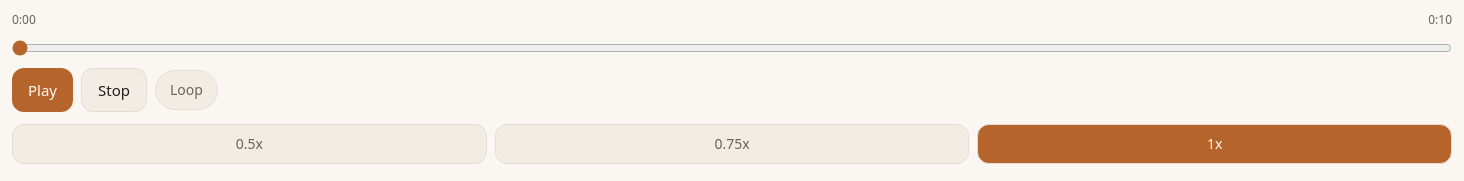
Test: AudioSegmentPlayer › toggles the loop switch
Click the switch named "Loop this section" at (186, 90), box left=155, top=70, right=218, bottom=110
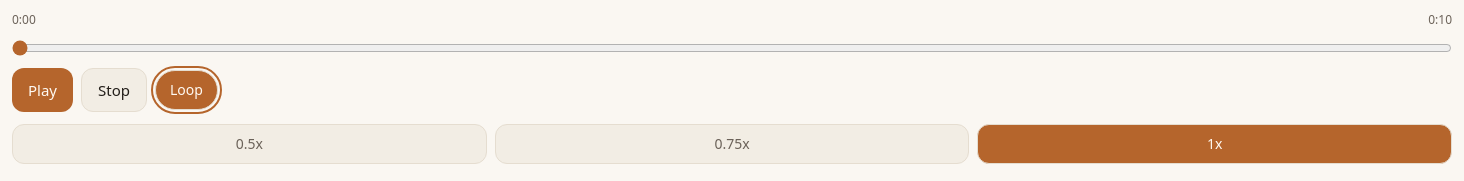
expect the switch named "Loop this section" is checked: met, box left=155, top=70, right=218, bottom=110
